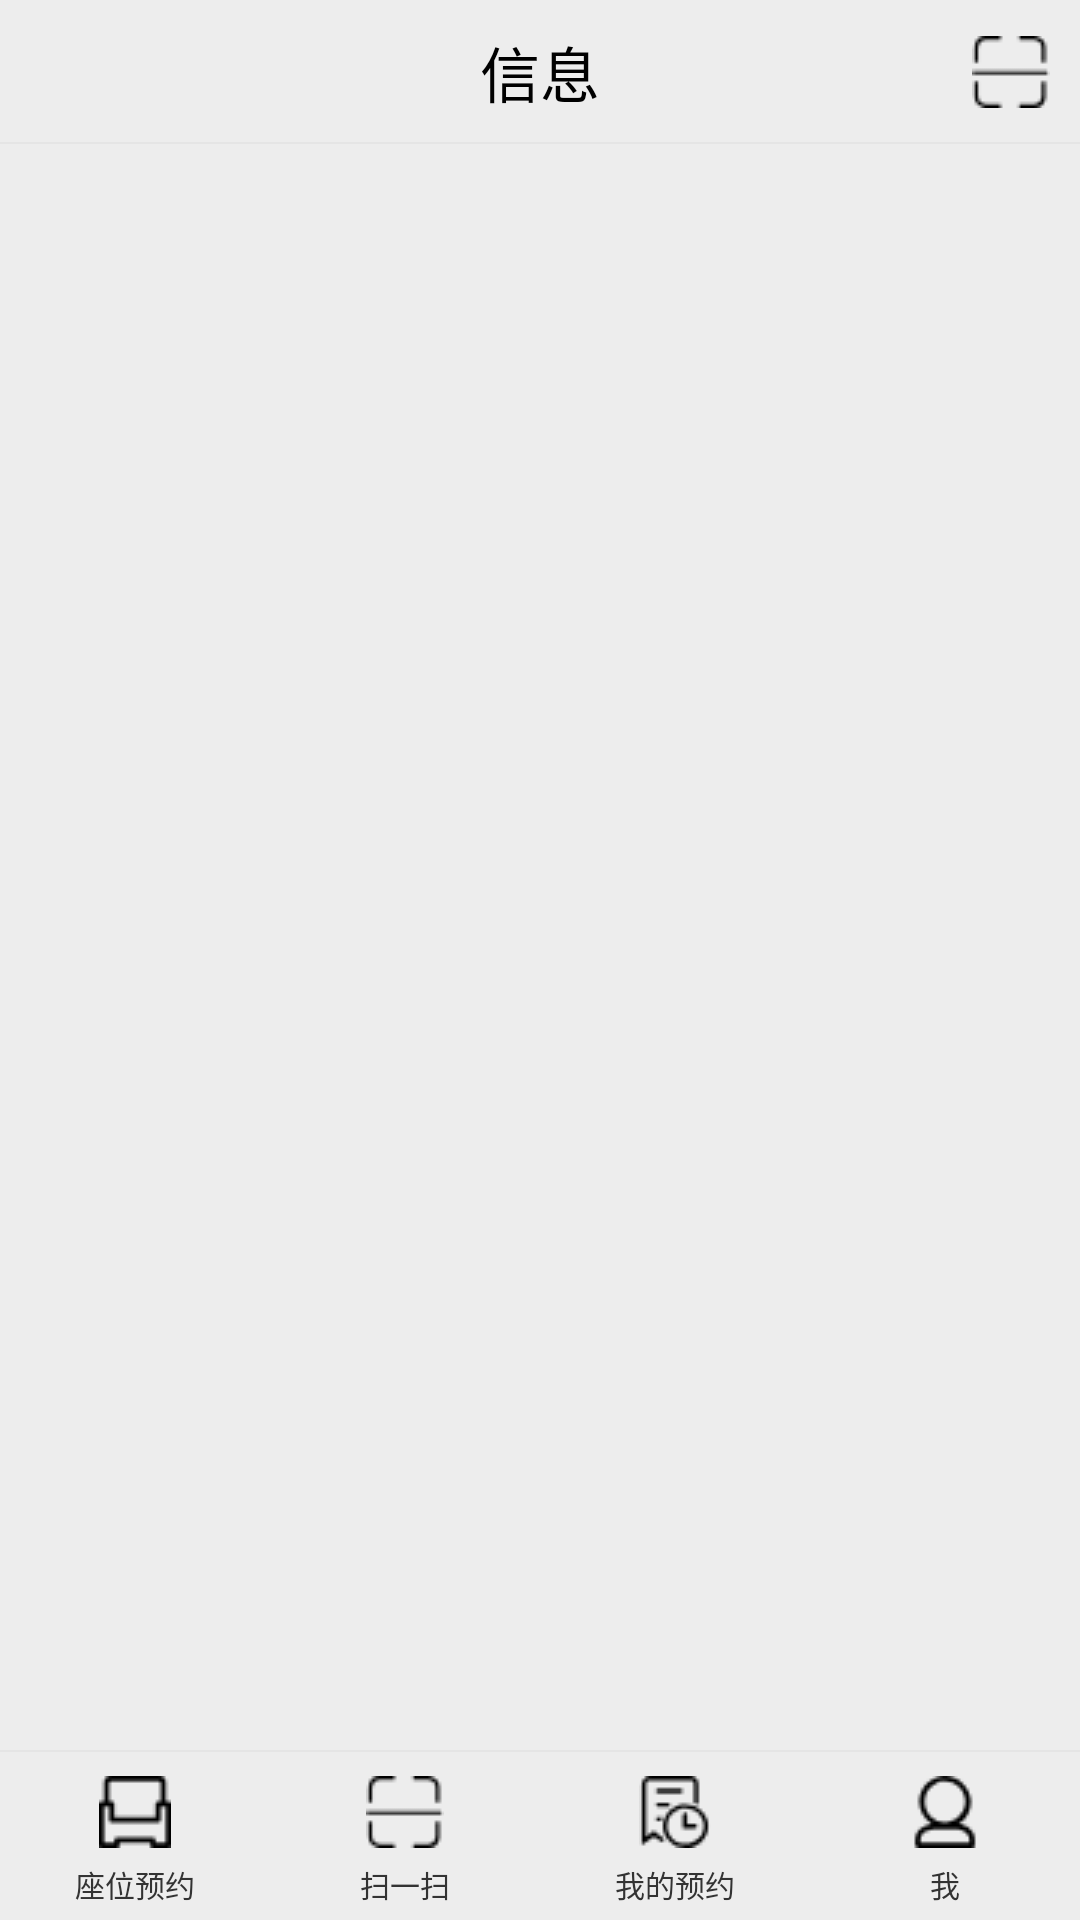

Where icons sit on this 1080×1920 app screen, as [x1,y1,x2,y2]:
scan: [972,36,1050,108]
